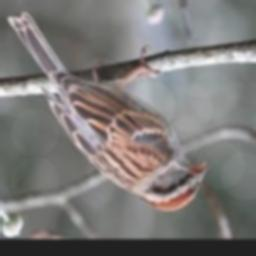Sparrow: (7, 11, 210, 212)
